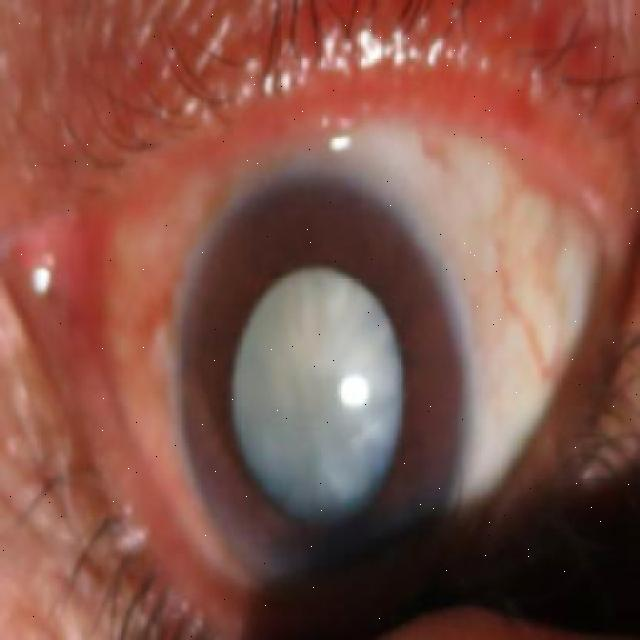Cataract: (165, 178, 470, 596)
